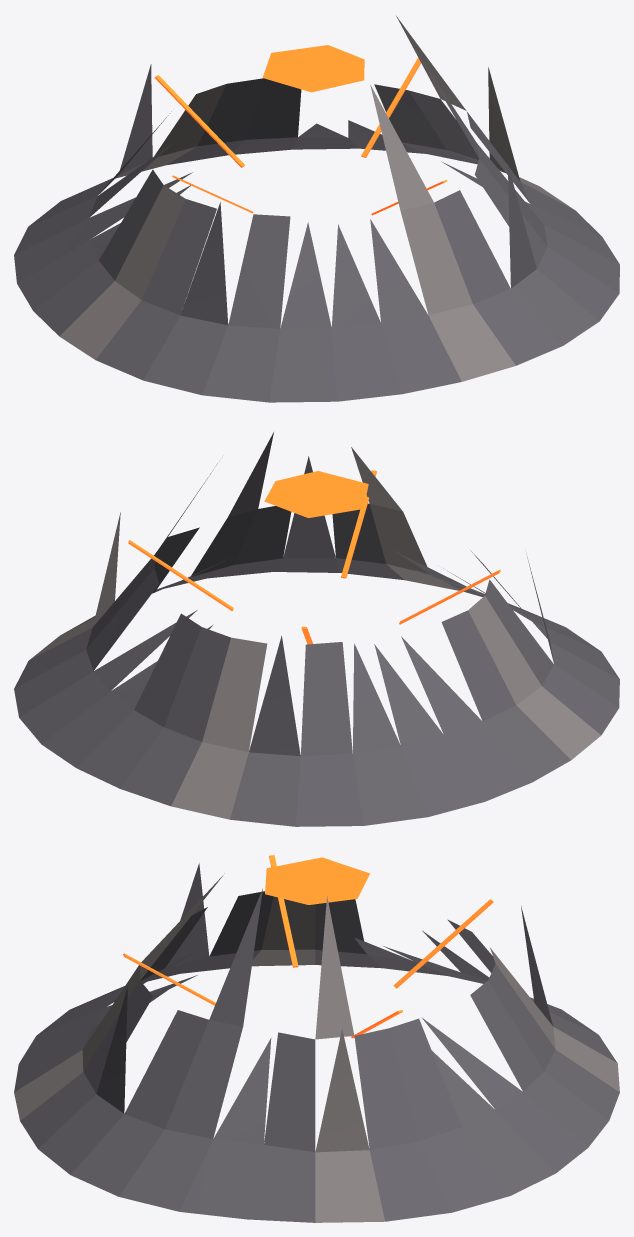
Rendered from volcano.glb.
The picture shows the model from 3 angles, top to bottom: view 1: azimuth 30°, elevation 25°; view 2: azimuth 150°, elevation 25°; view 3: azimuth 270°, elevation 25°; orthographic projection. The views are drawn at different scales.
Visible parts, largest first — view 1: Caldera, Lava seam.001, Lava seam; view 2: Caldera, Lava seam; view 3: Caldera, Lava seam.001, Lava seam.002.
Boxes of the visible parts, x1,y1,x2,y2 form: Caldera: [14, 16, 619, 402]; Lava seam.001: [154, 75, 244, 167]; Lava seam: [361, 57, 420, 157]; Caldera: [14, 432, 619, 826]; Lava seam: [128, 540, 233, 610]; Caldera: [14, 857, 619, 1222]; Lava seam.001: [393, 899, 493, 988]; Lava seam.002: [269, 855, 298, 967].
Bounding box in the file's own units: 25.73 × 11.17 × 25.54.
